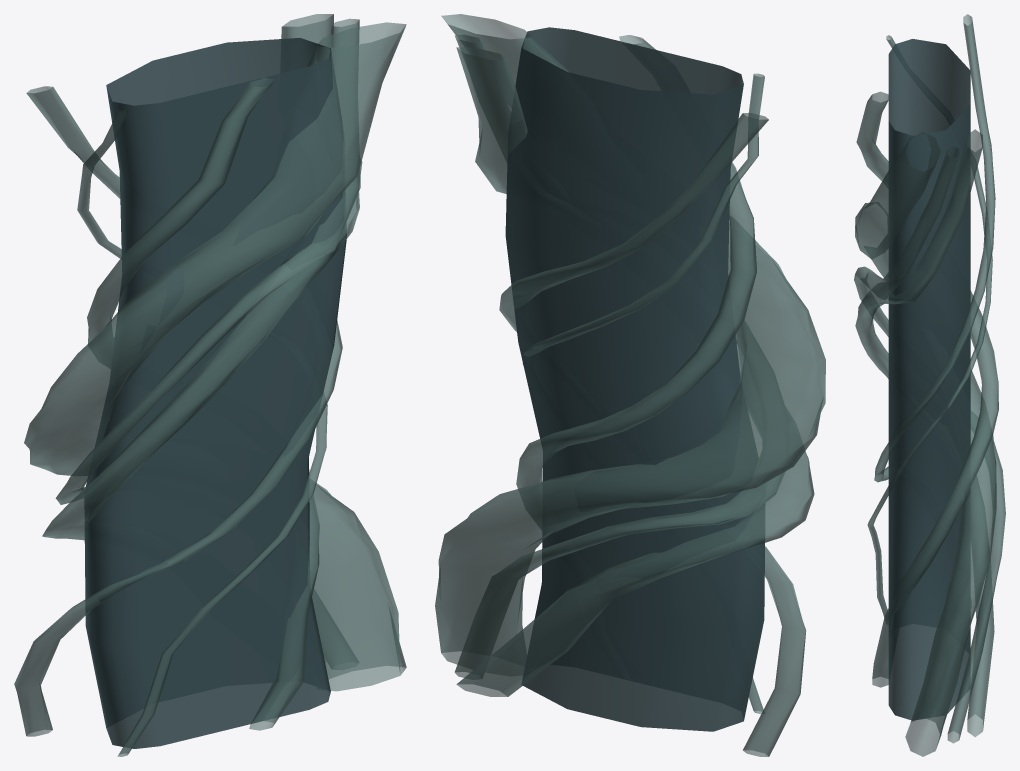
File: wallJumpVines.fbx
3 renders of one model, left to right at view 1: azimuth 30°, elevation 25°; view 2: azimuth 150°, elevation 25°; view 3: azimuth 270°, elevation 25°, orthographic. The views are drawn at different scales.
Visible parts, largest first — view 1: polySurface14; view 2: polySurface14; view 3: polySurface14.
Boxes of the visible parts, <box> form: polySurface14: <box>14,14,406,756</box>; polySurface14: <box>435,14,825,756</box>; polySurface14: <box>854,14,1005,756</box>.
Bounding box in the file's own units: 1.28 × 2.05 × 0.4836.
